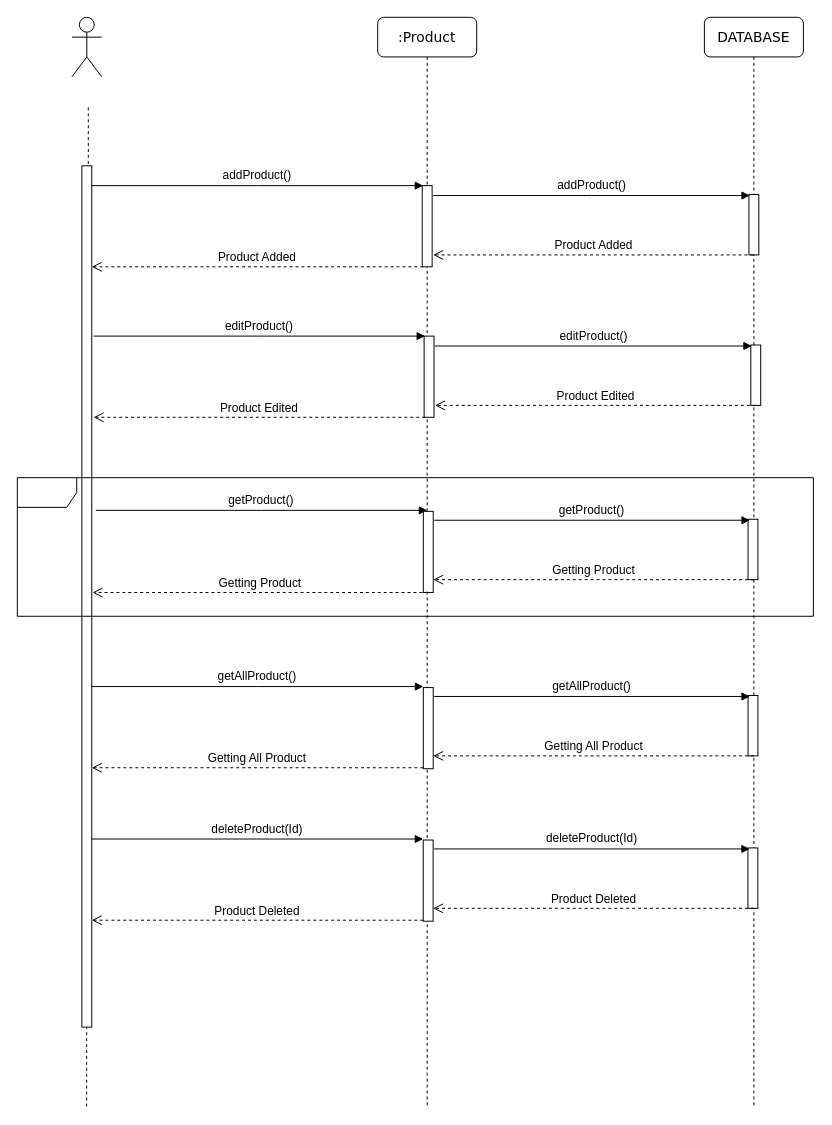
This 832x1125 diagram has some shape labels left out. Each missing label, with the centre of its shape:
"Admin" belongs at [86,46].
"loop" belongs at [414,546].
